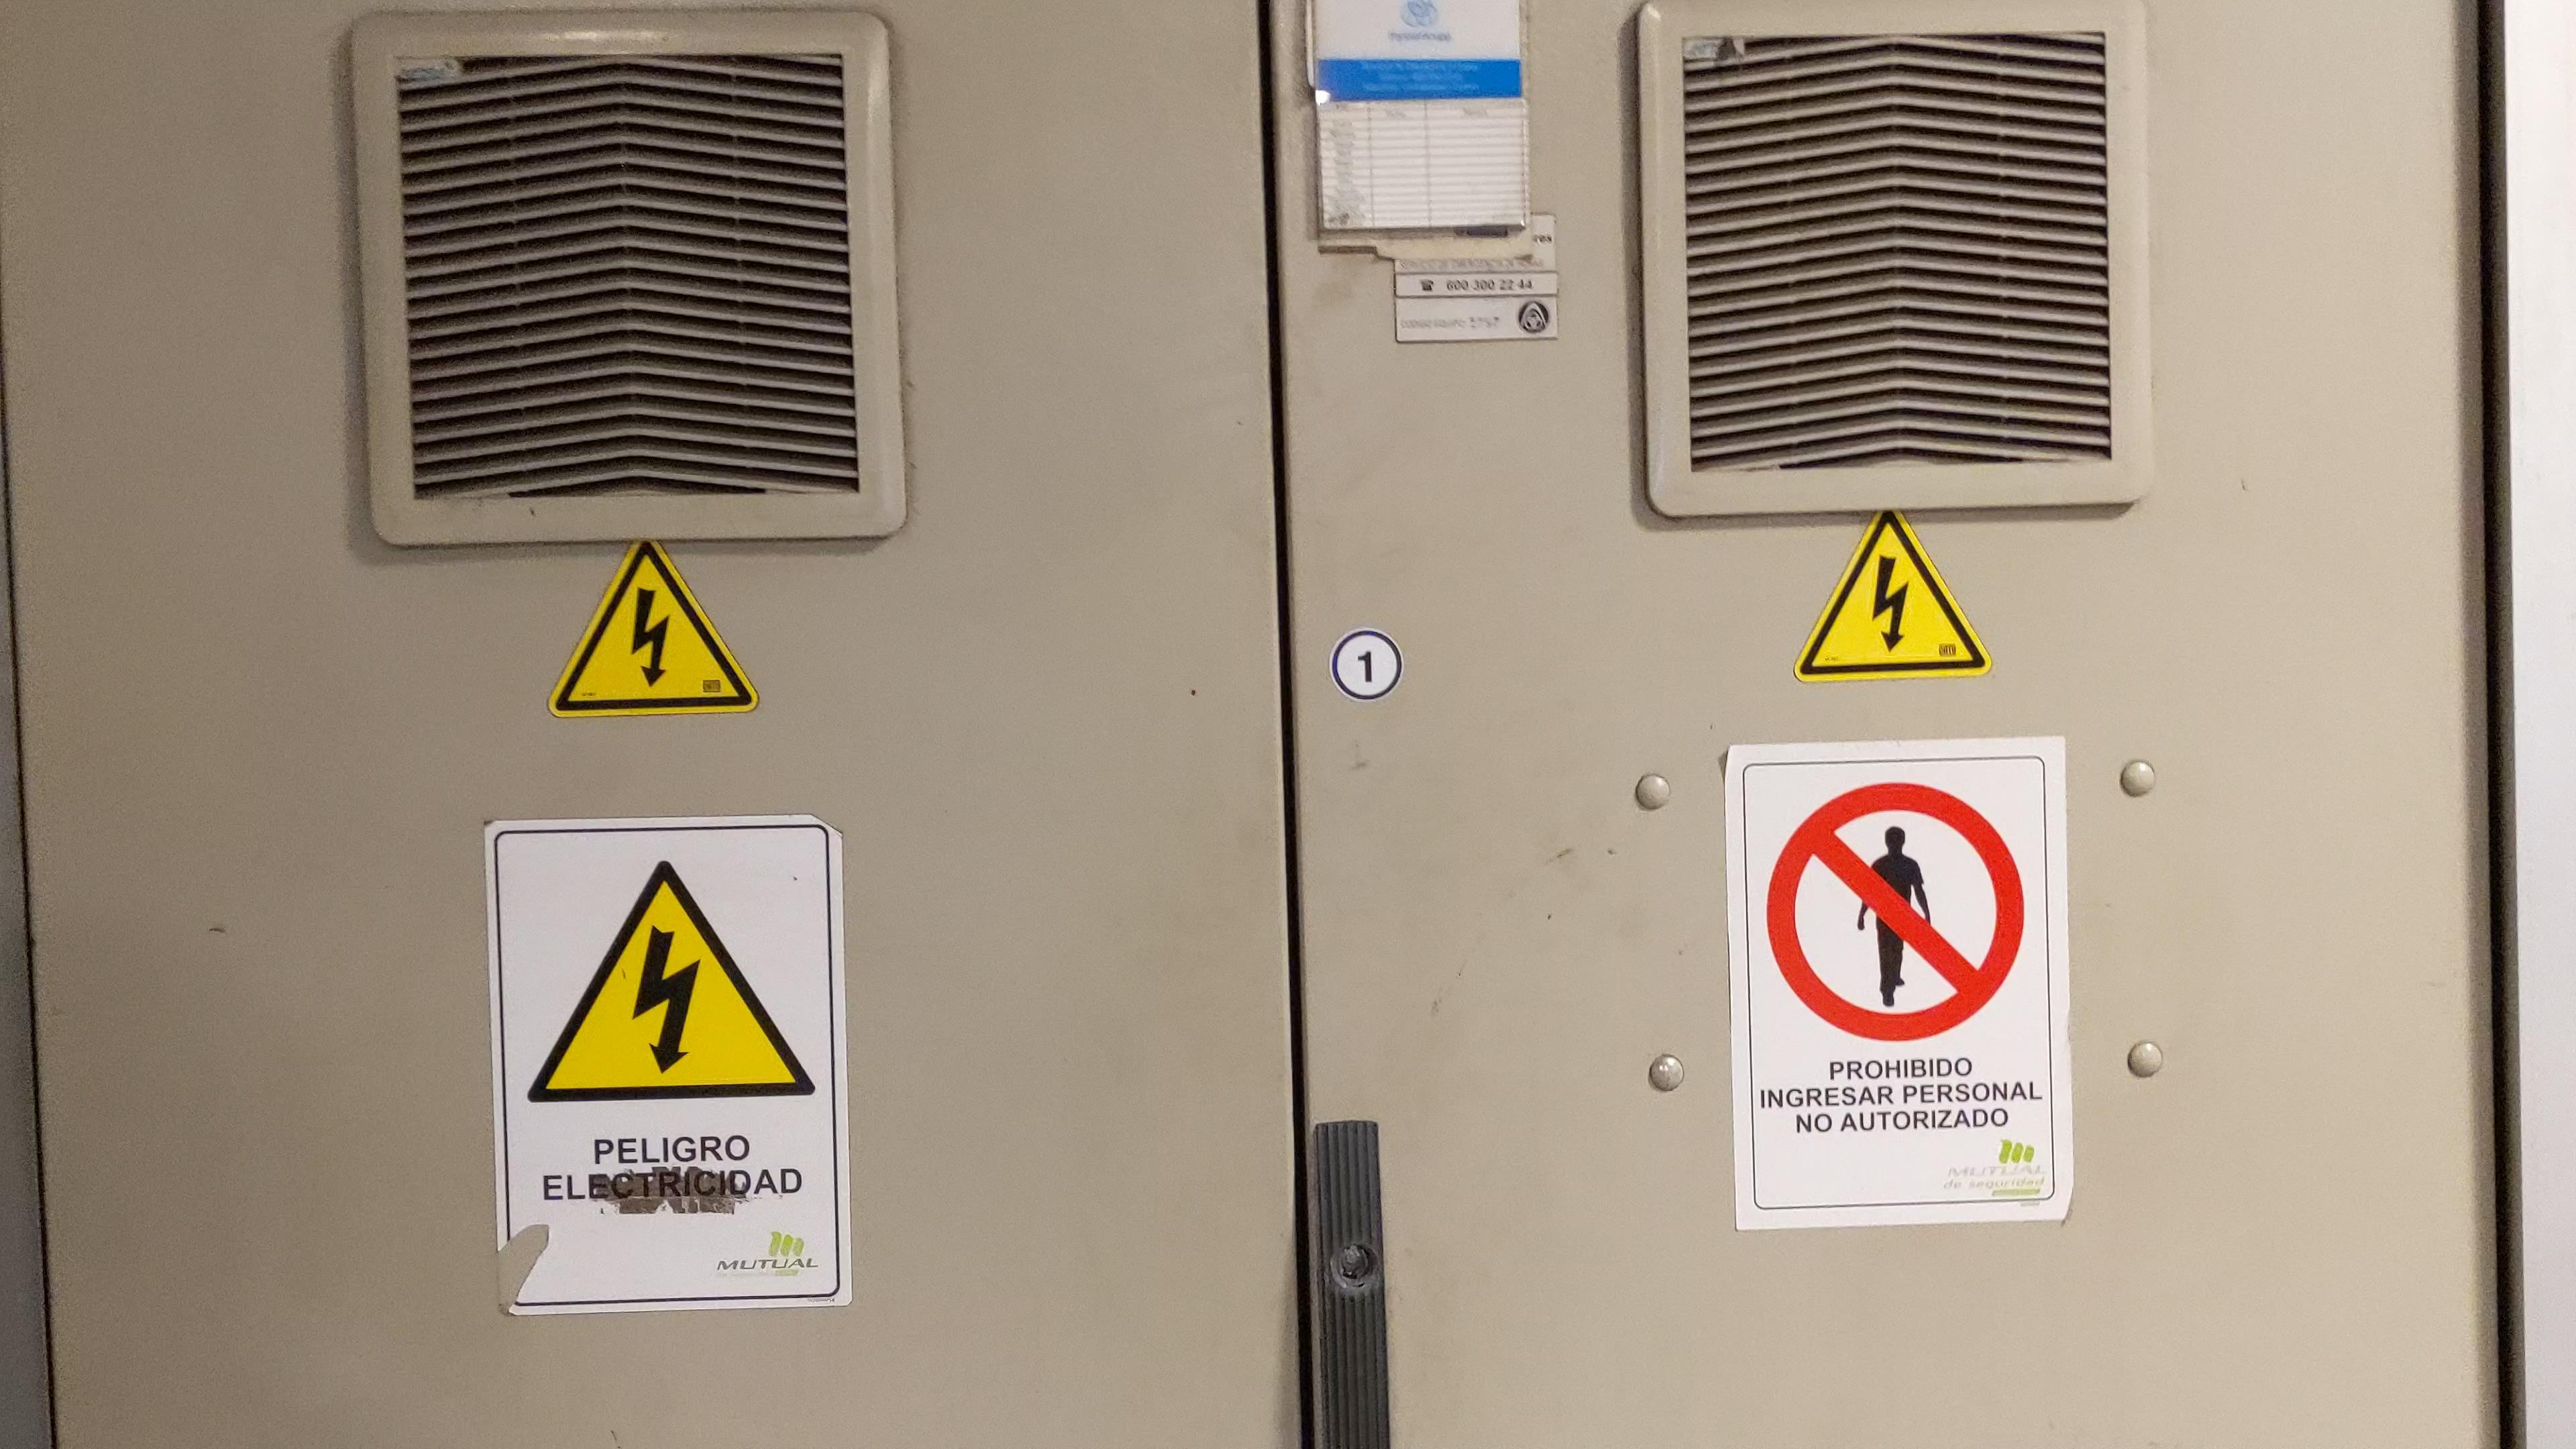danger-electricity: (522, 849, 823, 1111), (1794, 497, 1999, 688), (547, 541, 763, 720)
